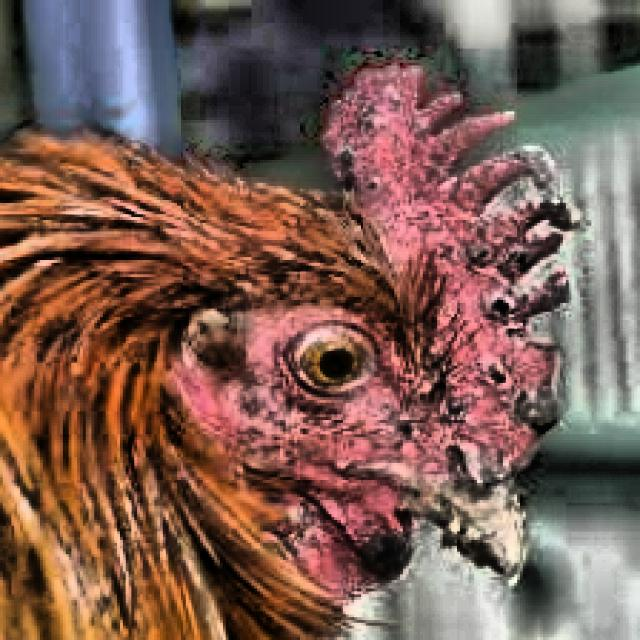Fowlpox: (300, 61, 574, 572)
